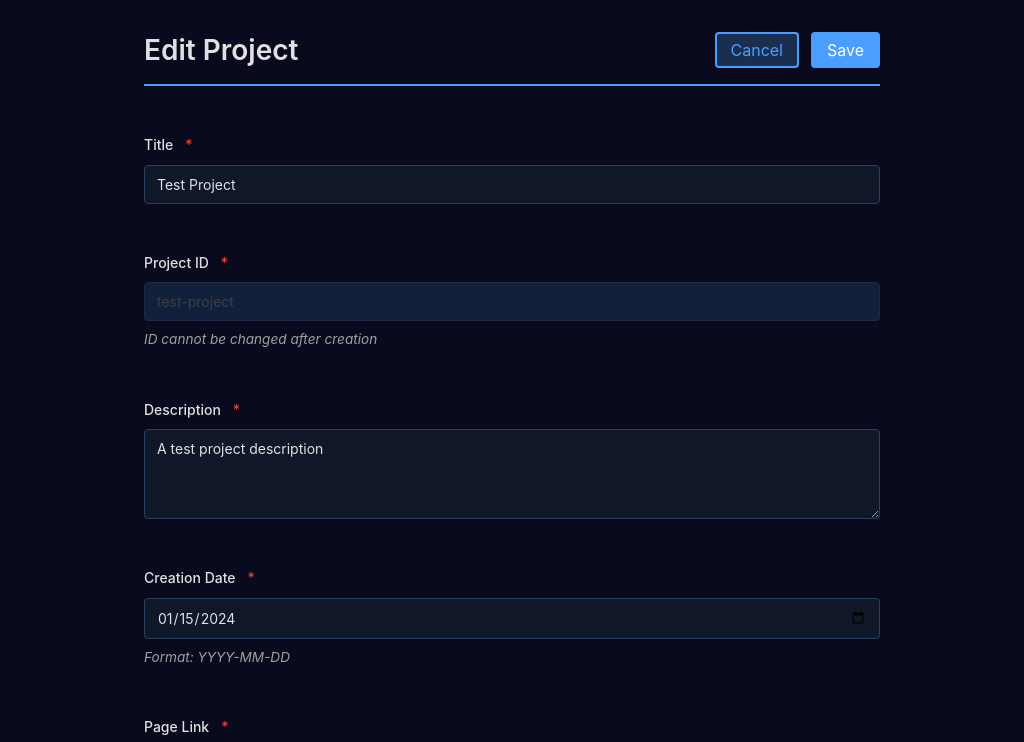
ProjectForm › Form Submission › should display API validation errors
Click the button "Save" at point(846, 50), box [811, 32, 880, 68]
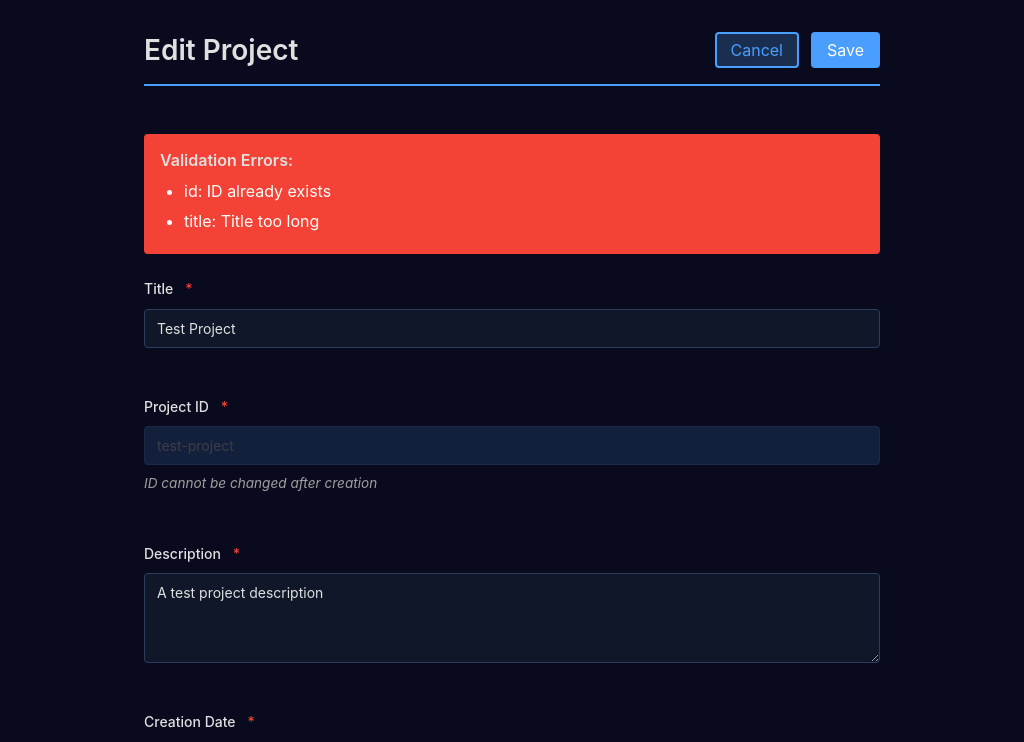
Check: the heading "Validation Errors:" is shown, box [160, 150, 293, 170]
Check: the list item "id: ID already exists" is shown, box [184, 181, 331, 201]
Check: the list item "title: Title too long" is shown, box [184, 211, 319, 231]
